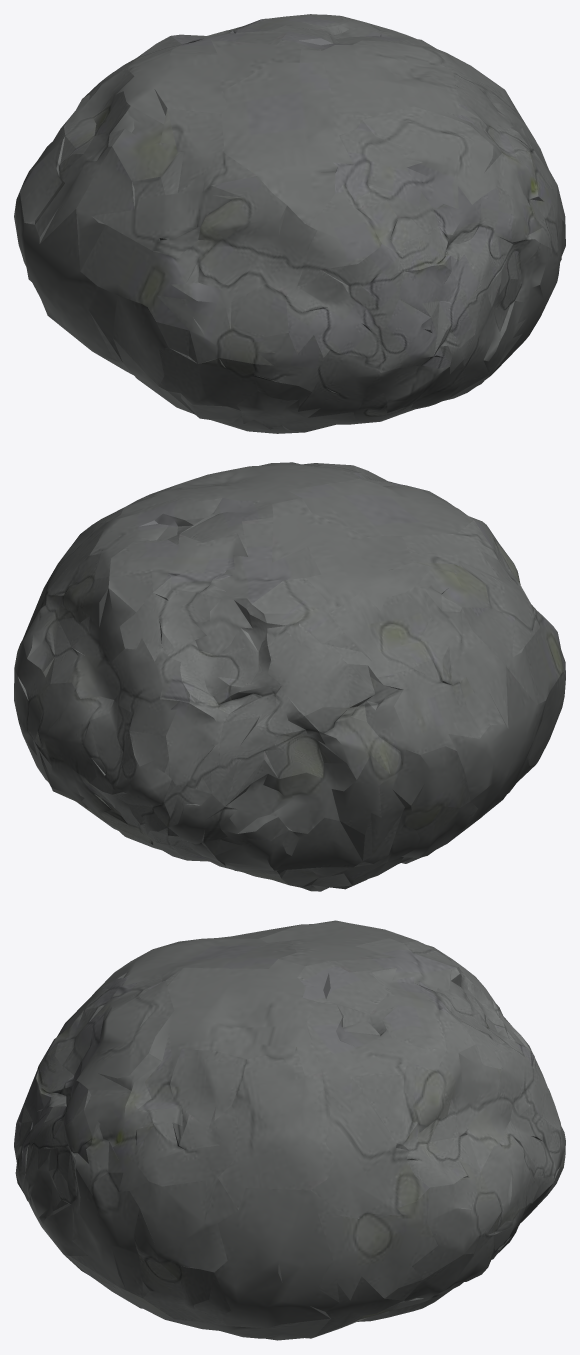
Rendered from boulder.glb.
3 renders of one model, top to bottom at view 1: azimuth 30°, elevation 25°; view 2: azimuth 150°, elevation 25°; view 3: azimuth 270°, elevation 25°, orthographic. The views are drawn at different scales.
Visible parts, largest first — view 1: output_unwrapped; view 2: output_unwrapped; view 3: output_unwrapped.
Boxes of the visible parts, x1,y1,x2,y2 form: output_unwrapped: [14, 14, 565, 433]; output_unwrapped: [14, 462, 565, 891]; output_unwrapped: [14, 920, 565, 1340].
Size of the model in its own units: 1.87 by 1.21 by 1.9.
1 material, 1 textured.
